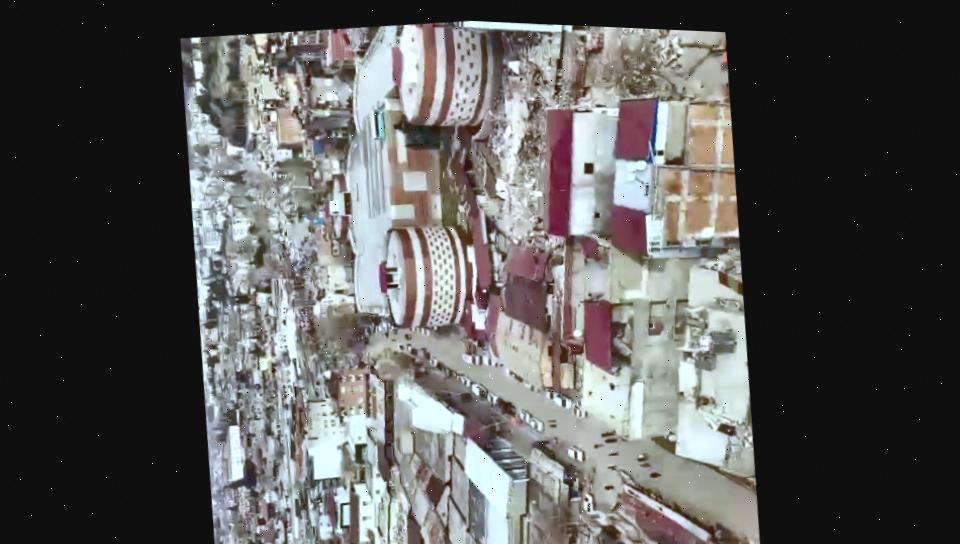kapali: (602, 27, 701, 95)
